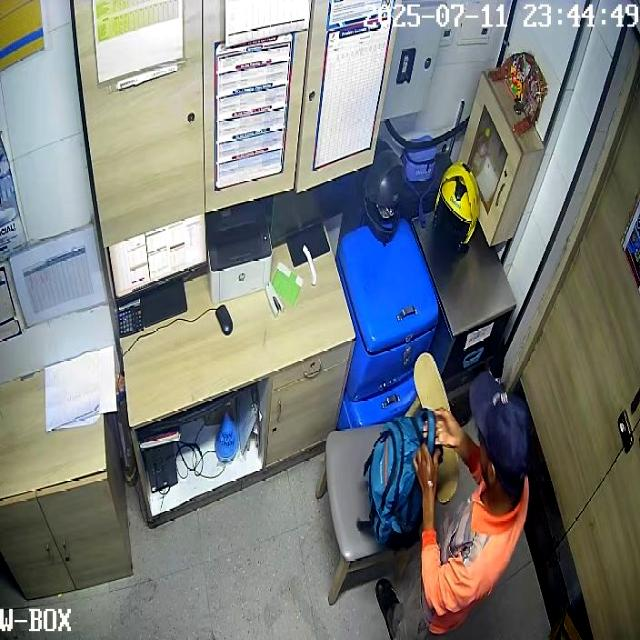helmet: (360, 147, 405, 246), (432, 163, 480, 247)
